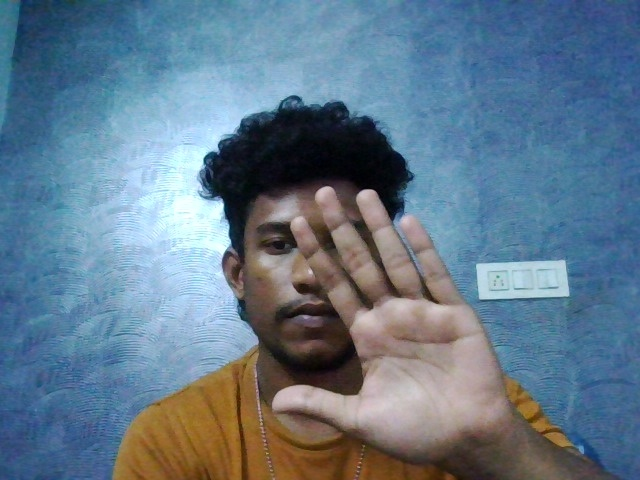hello: (271, 179, 536, 445)
